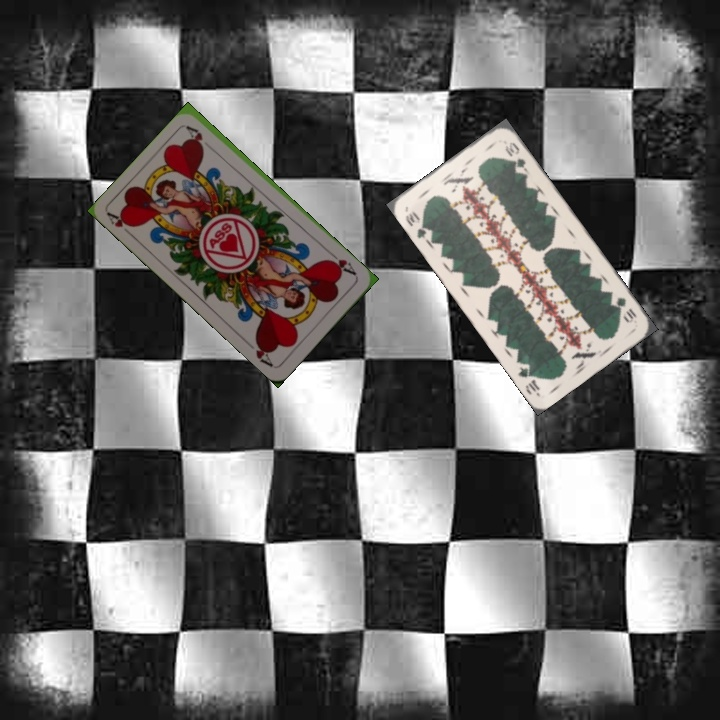G10: (401, 208, 432, 241), (611, 293, 639, 325)
HA: (104, 209, 138, 241), (323, 248, 359, 278)
